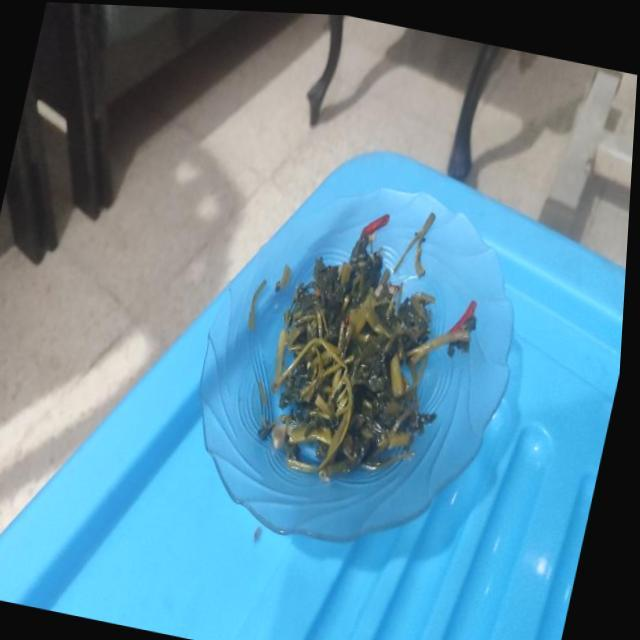tumis_kangkung: (260, 214, 476, 482)
